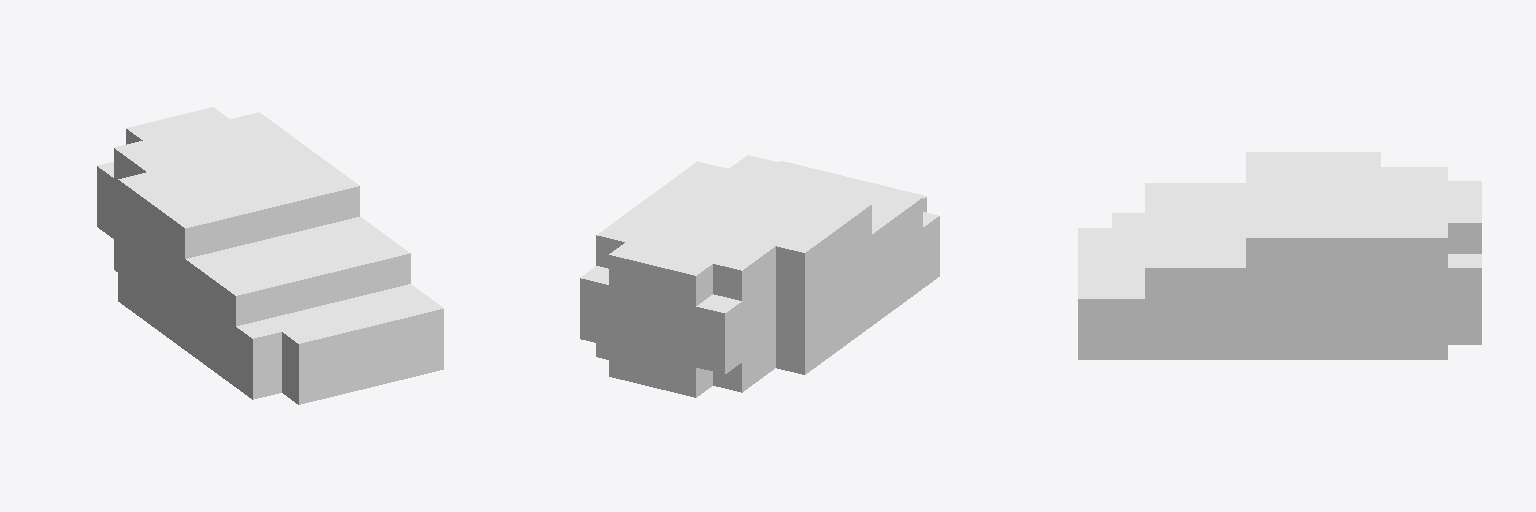
File: male_02-8.obj
The picture shows the model from 3 angles: view 1: azimuth 30°, elevation 25°; view 2: azimuth 150°, elevation 25°; view 3: azimuth 270°, elevation 25°; orthographic projection.
Visible parts, largest first — view 1: male_02-8; view 2: male_02-8; view 3: male_02-8.
Part boxes in pixels (bbox=[...]): male_02-8: bbox=[97, 107, 443, 404]; male_02-8: bbox=[580, 155, 939, 397]; male_02-8: bbox=[1078, 152, 1481, 359].
Bounding box in the file's own units: 6 × 4 × 12.